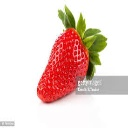strawberry: (37, 14, 105, 104)
